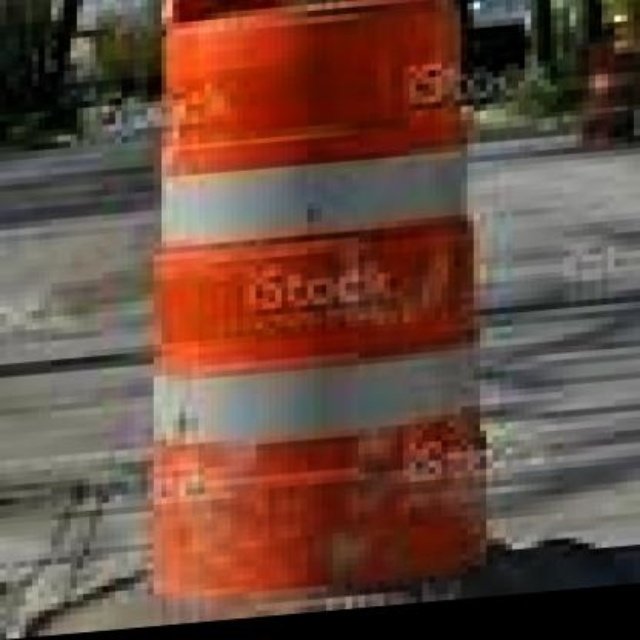obstacle: (135, 0, 493, 611)
